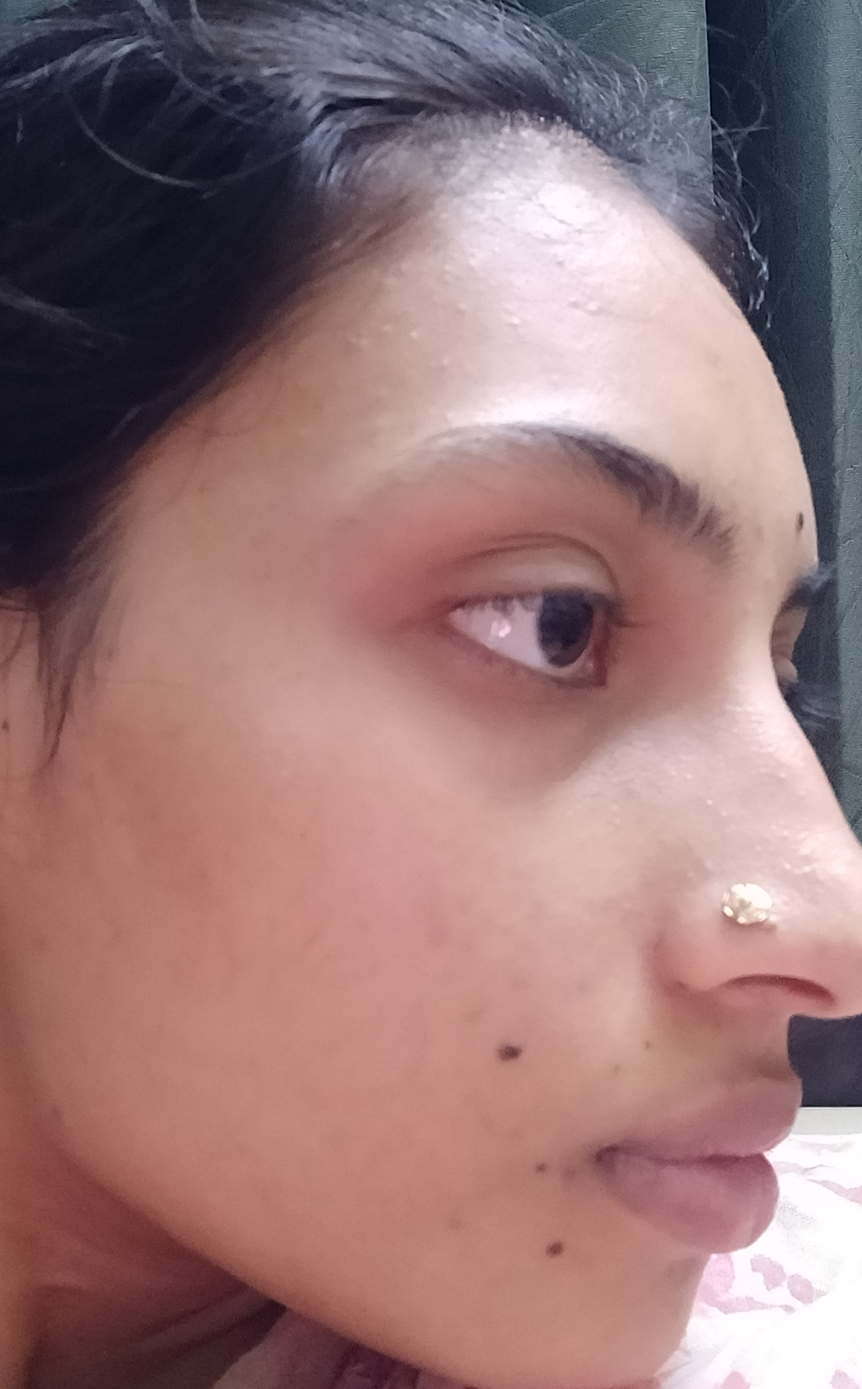closed_comedone: (352, 315, 457, 379), (430, 240, 510, 301), (494, 306, 554, 363)
